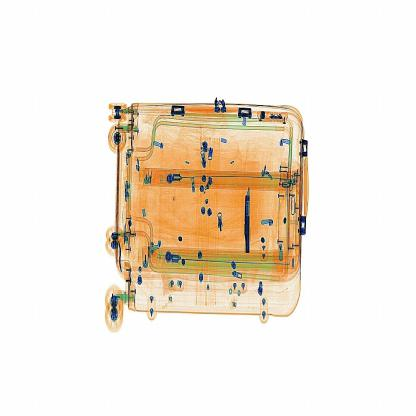pliers: (244, 186, 254, 257)
